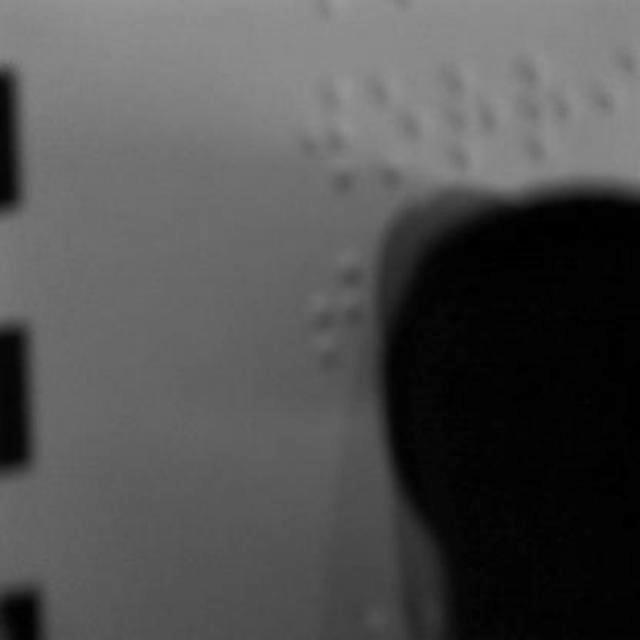braiile: (518, 41, 590, 176), (366, 60, 438, 190), (295, 56, 361, 196), (446, 44, 510, 180), (304, 238, 366, 378)
